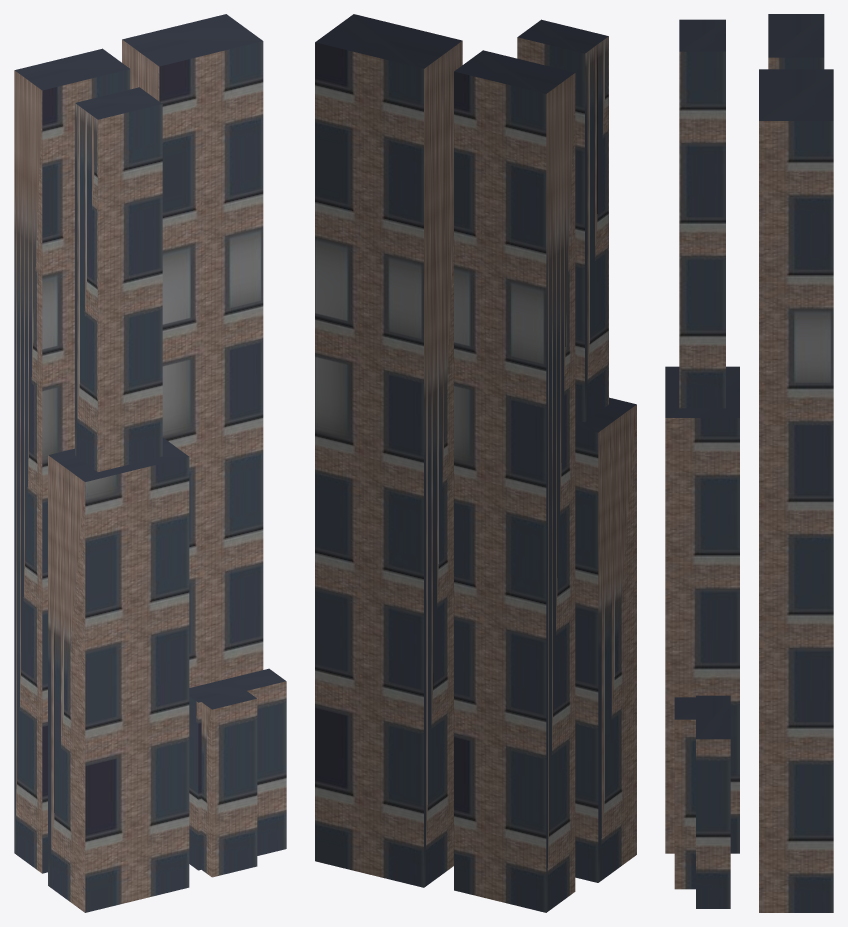
File: city_block_12345_6_30.glb
3 renders of one model, left to right at view 1: azimuth 30°, elevation 25°; view 2: azimuth 150°, elevation 25°; view 3: azimuth 270°, elevation 25°, orthographic. The views are drawn at different scales.
Parts seen in each view (by area): view 1: block_30; view 2: block_30; view 3: block_30.
Boxes of the visible parts, box(x1,y1,x2,y2) form: block_30: box(14, 14, 286, 912); block_30: box(315, 14, 636, 912); block_30: box(665, 14, 833, 912).
Size of the model in its own units: 4.2 by 14 by 2.7.
4 materials, 4 textured.
